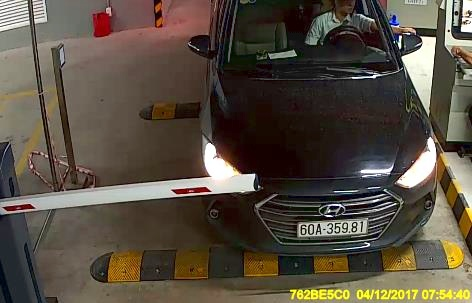plate: (295, 218, 368, 237)
